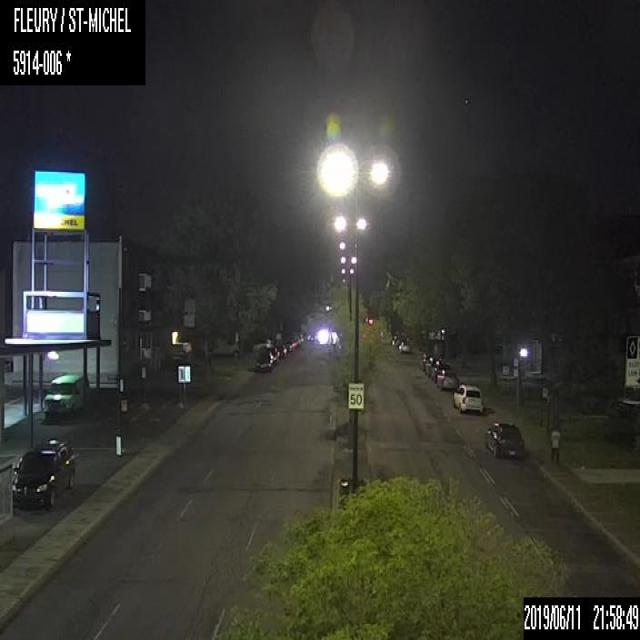pedestrian: (548, 423, 561, 464)
vehicle: (8, 435, 77, 512), (41, 371, 89, 417), (484, 418, 526, 458), (451, 383, 485, 412), (254, 346, 275, 374), (436, 369, 460, 390), (396, 339, 409, 353)
